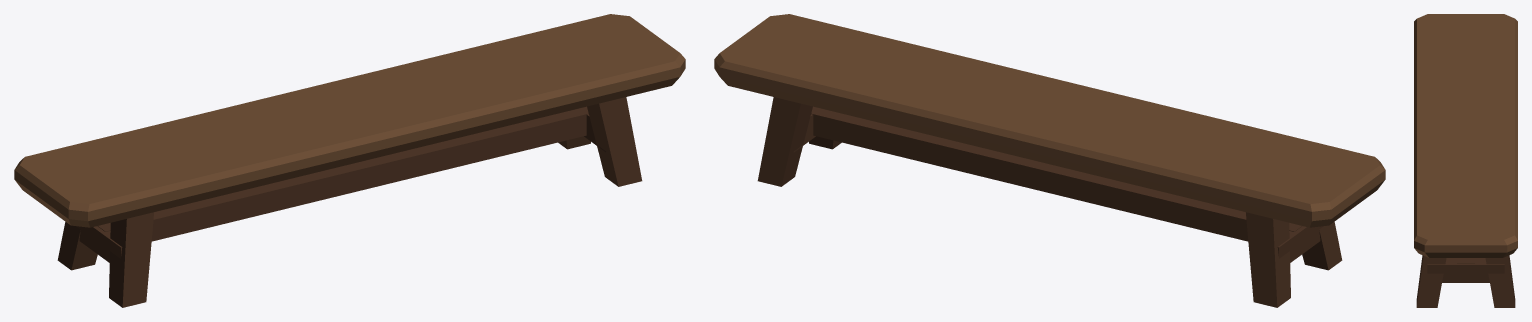
The model's file is fn_bench.glb.
3 renders of one model, left to right at view 1: azimuth 30°, elevation 25°; view 2: azimuth 150°, elevation 25°; view 3: azimuth 270°, elevation 25°, orthographic. The views are drawn at different scales.
Visible parts, largest first — view 1: fn_bench__plank, fn_bench__wood_dark; view 2: fn_bench__plank, fn_bench__wood_dark; view 3: fn_bench__plank, fn_bench__wood_dark.
Boxes of the visible parts, left/top/right/bottom form: fn_bench__plank: left=14, top=14, right=685, bottom=227; fn_bench__wood_dark: left=57, top=97, right=642, bottom=307; fn_bench__plank: left=714, top=14, right=1385, bottom=227; fn_bench__wood_dark: left=757, top=97, right=1342, bottom=307; fn_bench__plank: left=1414, top=14, right=1517, bottom=257; fn_bench__wood_dark: left=1416, top=255, right=1515, bottom=307.
Size of the model in its own units: 26 by 4.5 by 5.
